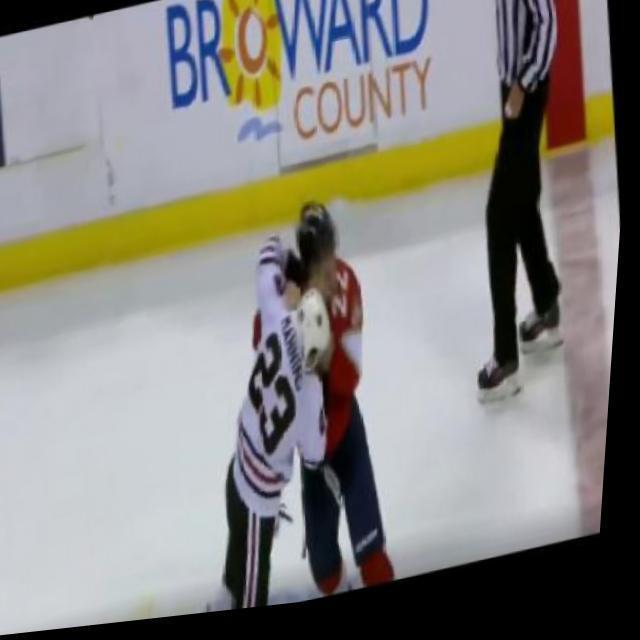fight: (182, 186, 412, 621)
